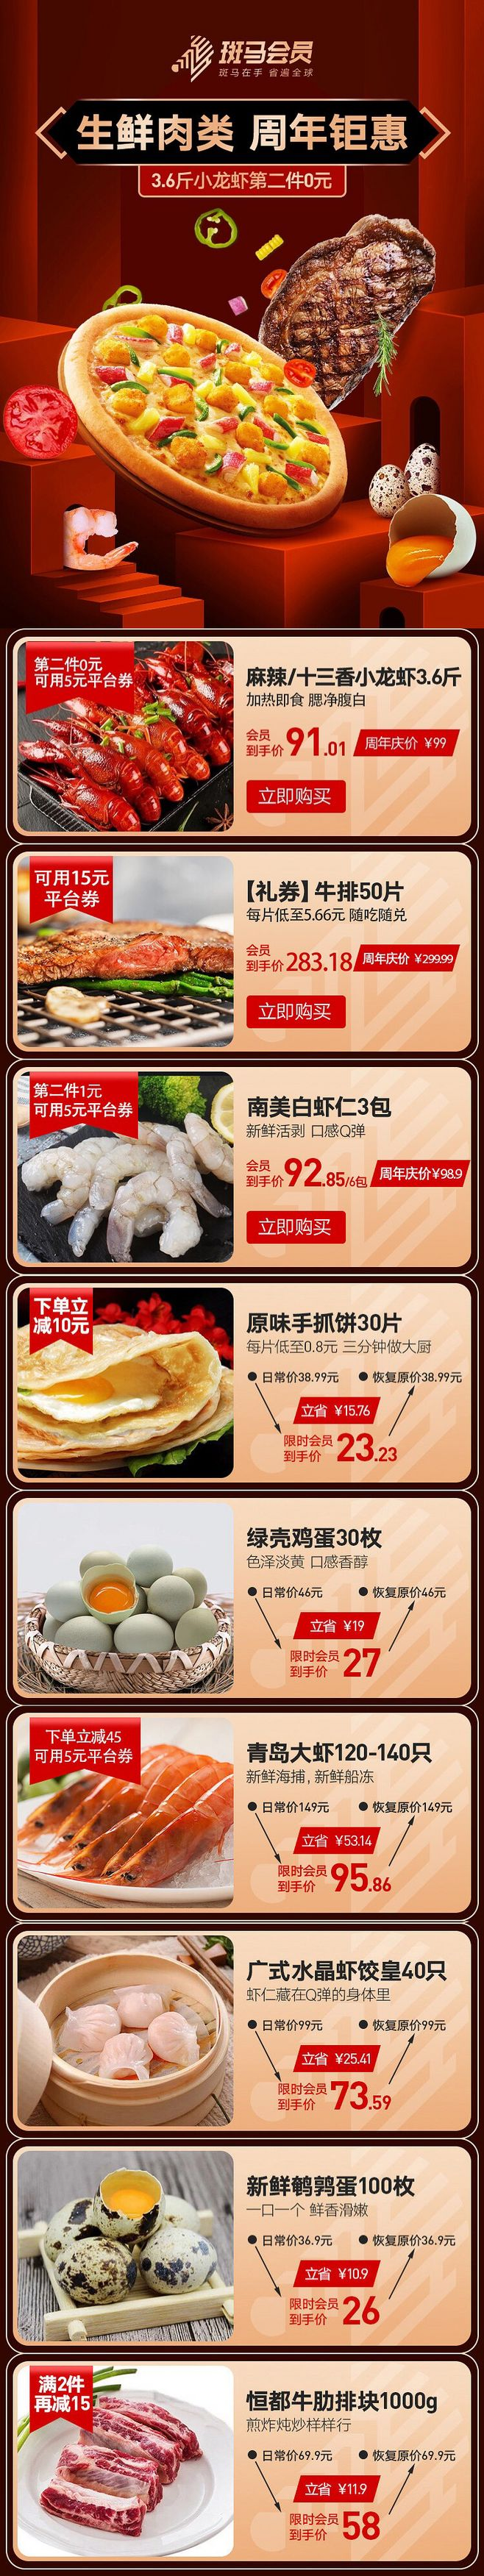floors: (2, 629, 484, 2576)
toutu: (0, 0, 484, 624)
